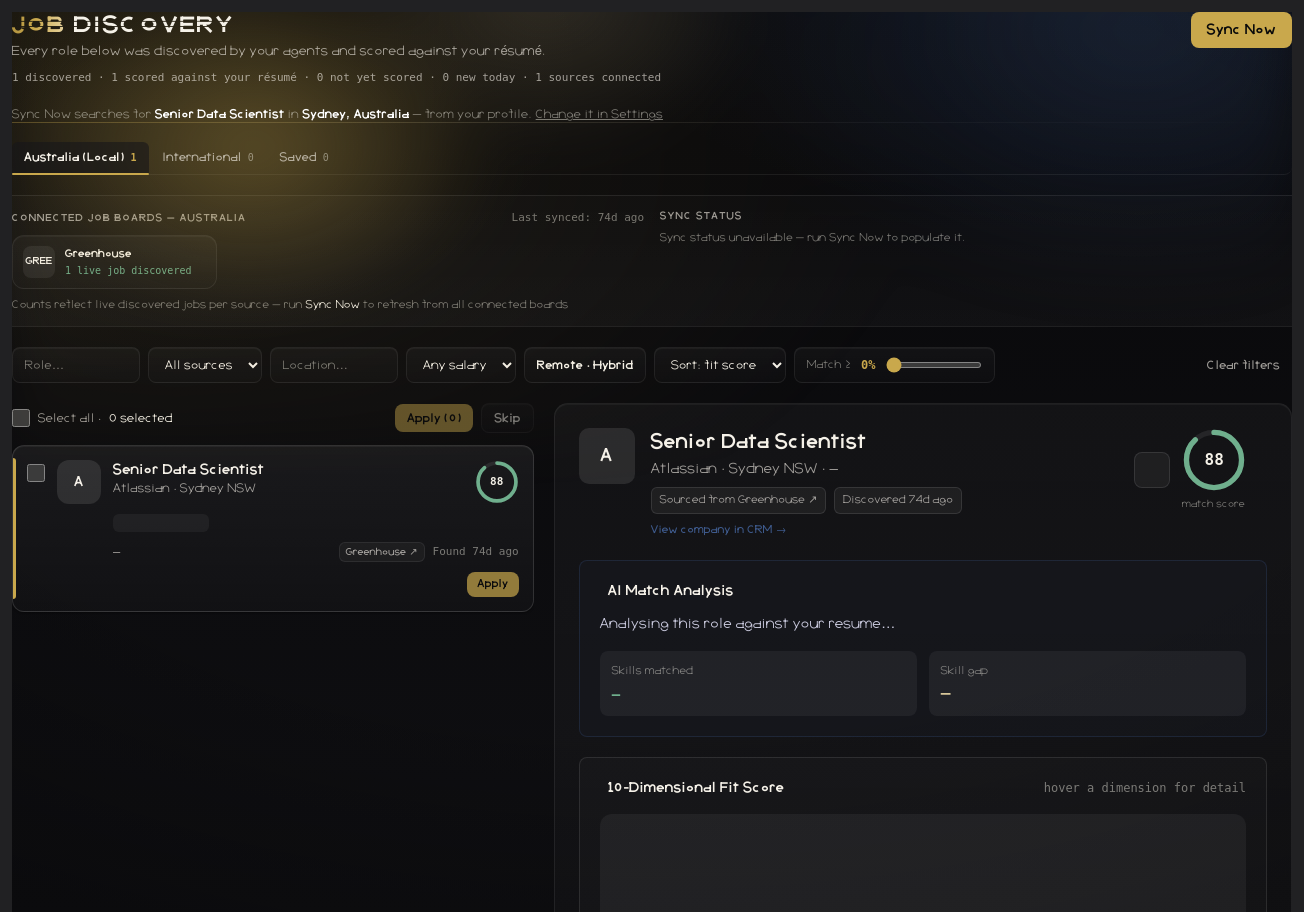
Test case: MON-020 · Sync Now no longer blocks the request › renders a friendly message for a failed background run, never raw markup
Expected: the text with test id "jobs-stats" is shown, [12, 71, 661, 84]
Expected: the element with test id "discovery-search-target" is shown, [12, 108, 663, 120]
Click the button with test id "run-discovery-btn". click: (1241, 30)
box: [1191, 12, 1292, 48]
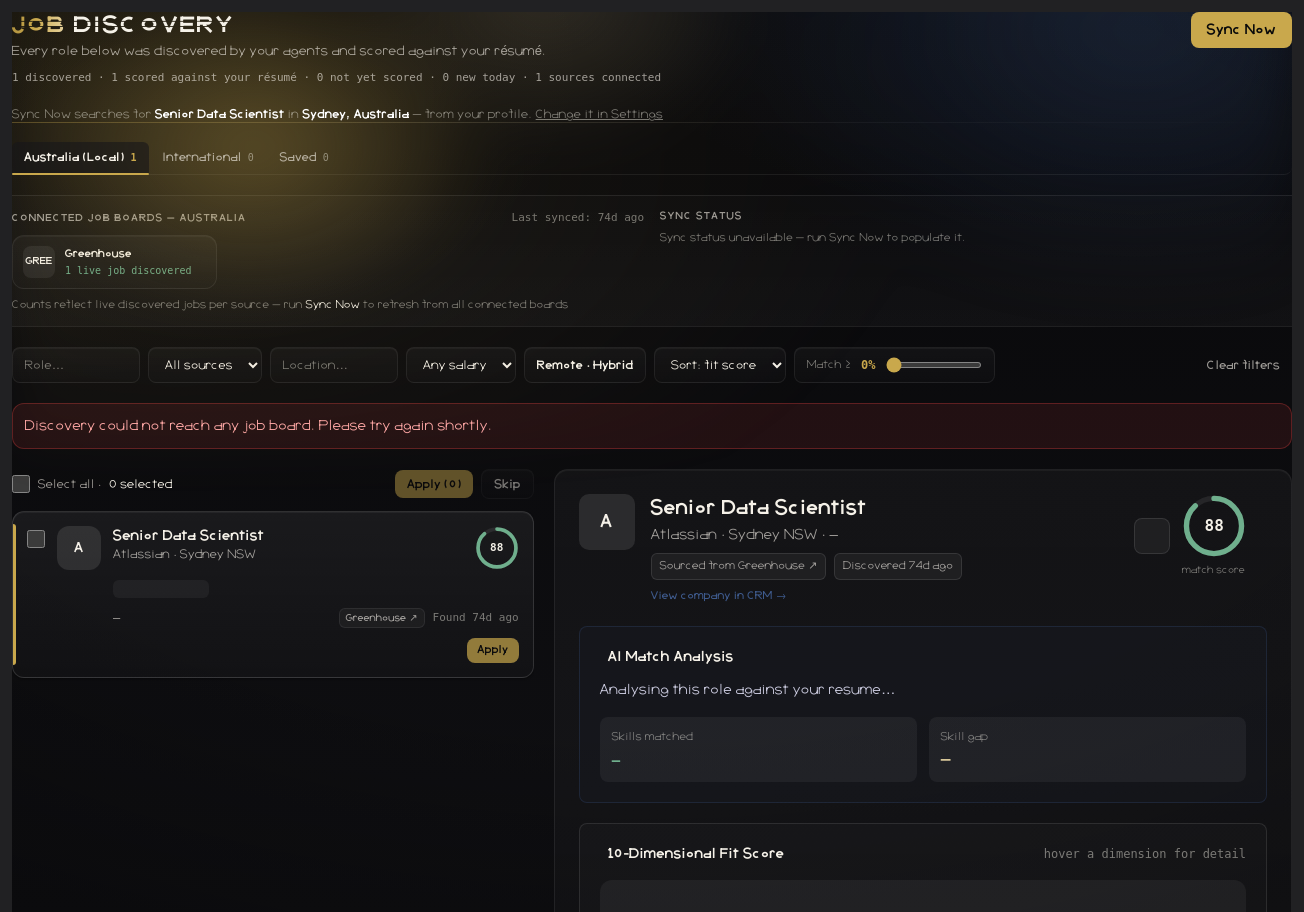
Expected: the message shows "could not reach any job board", [25, 419, 492, 433]
